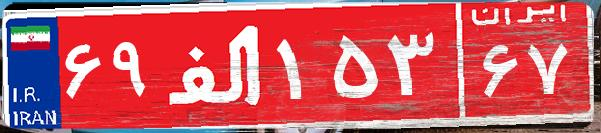1: (273, 28, 330, 110)
3: (385, 28, 445, 110)
5: (330, 28, 385, 110)
6: (57, 26, 110, 107), (475, 38, 525, 113)
7: (525, 38, 570, 115)
9: (110, 28, 158, 105)
الف: (158, 15, 273, 115)
